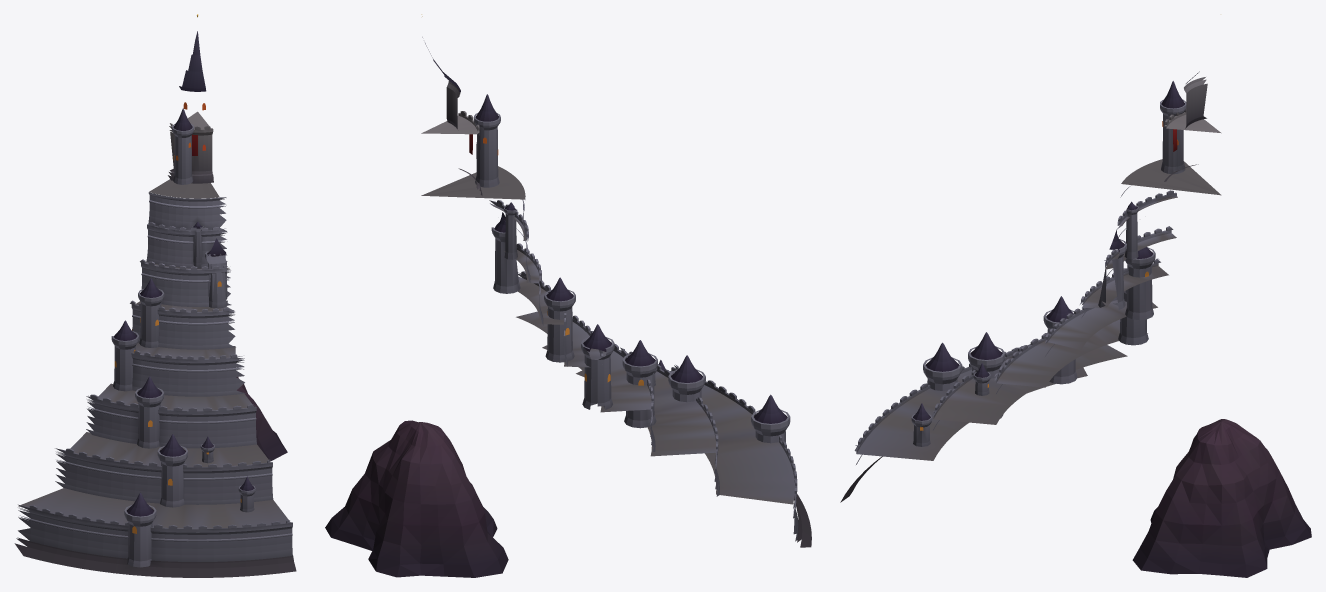
File: fortress-s4-DGKca9TB.glb
3 renders of one model, left to right at view 1: azimuth 30°, elevation 25°; view 2: azimuth 150°, elevation 25°; view 3: azimuth 270°, elevation 25°, orthographic. The views are drawn at different scales.
Parts seen in each view (by area): view 1: sc_landmark_4, sc_crag_1; view 2: sc_landmark_4, sc_crag_1; view 3: sc_landmark_4, sc_crag_1.
Boxes of the visible parts, bbox=[...] form: sc_landmark_4: bbox=[14, 14, 296, 577]; sc_crag_1: bbox=[236, 377, 287, 461]; sc_landmark_4: bbox=[421, 14, 811, 547]; sc_crag_1: bbox=[325, 420, 508, 577]; sc_landmark_4: bbox=[840, 71, 1221, 502]; sc_crag_1: bbox=[1132, 419, 1311, 577].
Size of the model in its own units: 368 by 481 by 392.
